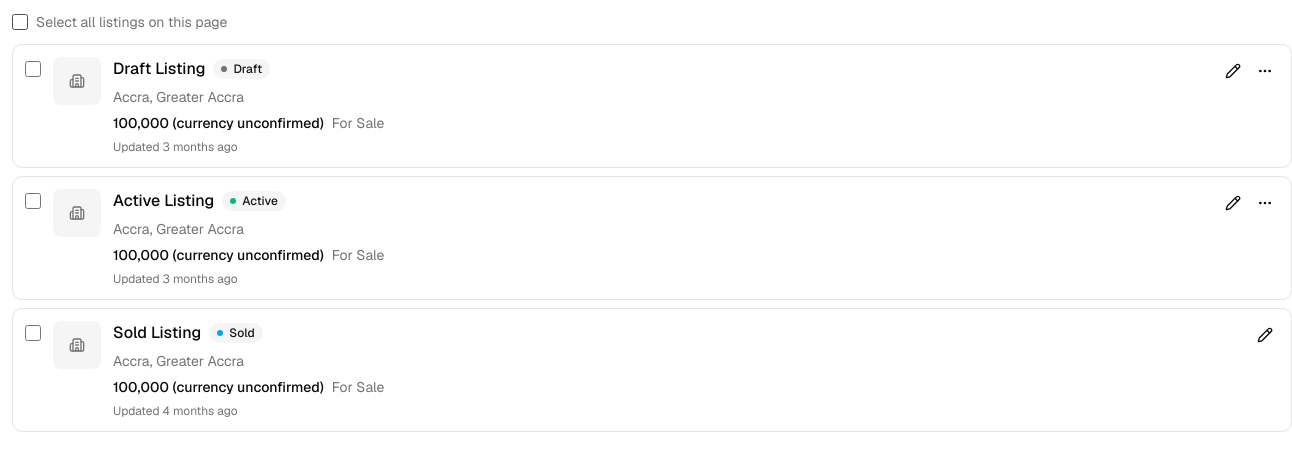
Test: ListingsTable › below md (card presentation) › applies the same publicly-visible rule to View listing as the table
The width and height of the screenshot is (1292, 449).
Click the button named "Actions for Draft Listing". click: [1265, 71]
box: 1251,57 -> 1279,85
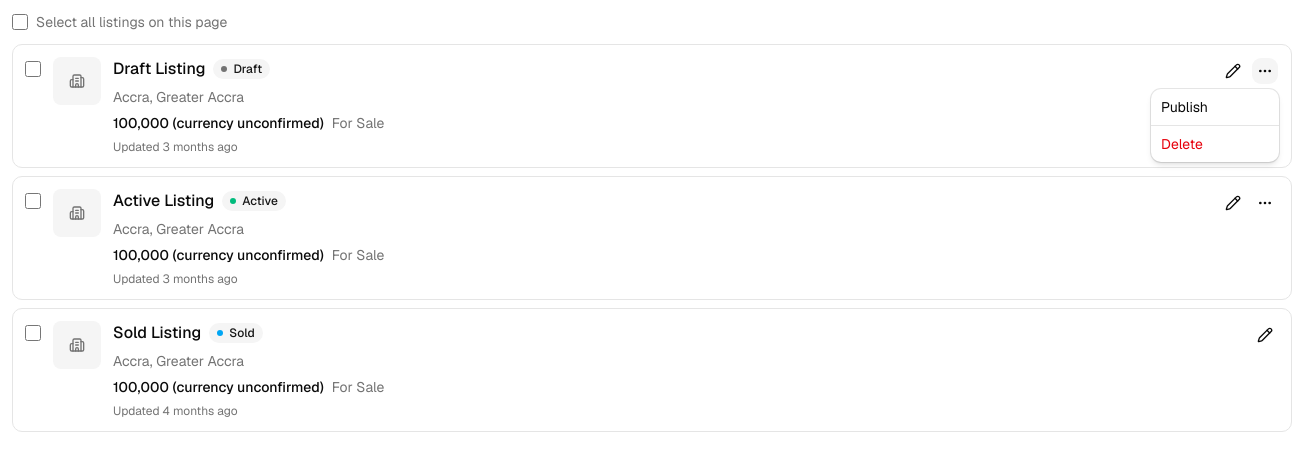
Expected: the menu item "Publish" is shown, 1161,98 -> 1208,116
